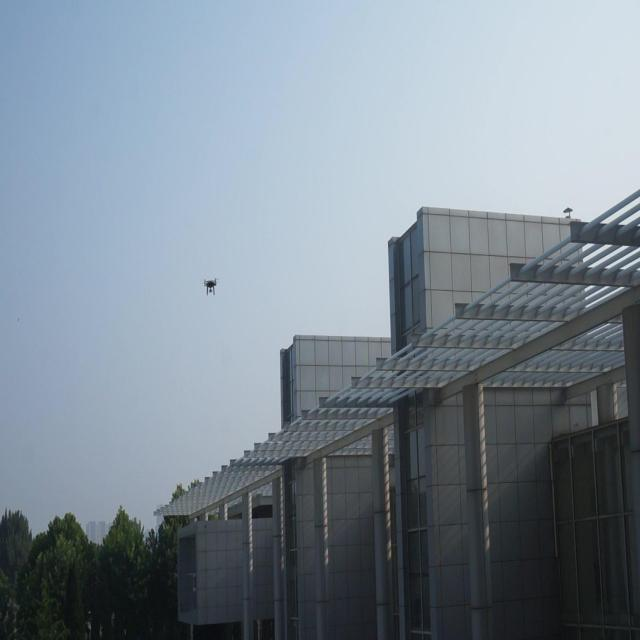drone: (201, 273, 220, 298)
